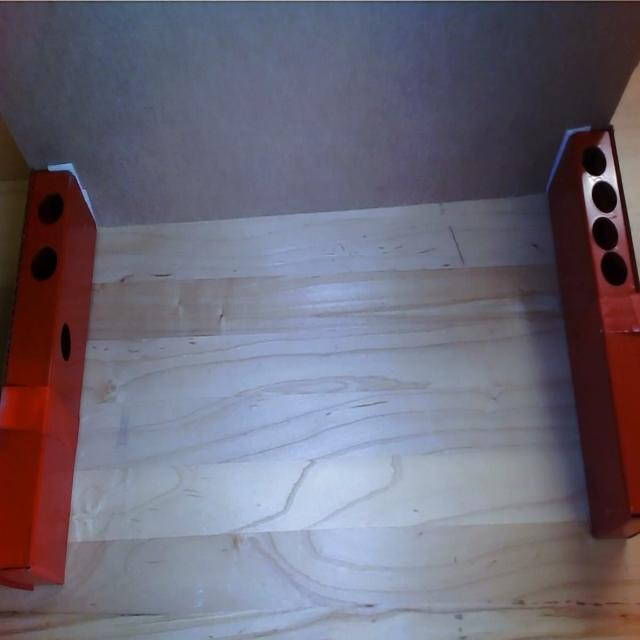Hole: (31, 245, 57, 282), (601, 251, 627, 285), (38, 191, 62, 227), (592, 217, 618, 250), (582, 144, 607, 176), (592, 181, 617, 213), (60, 321, 72, 361)
